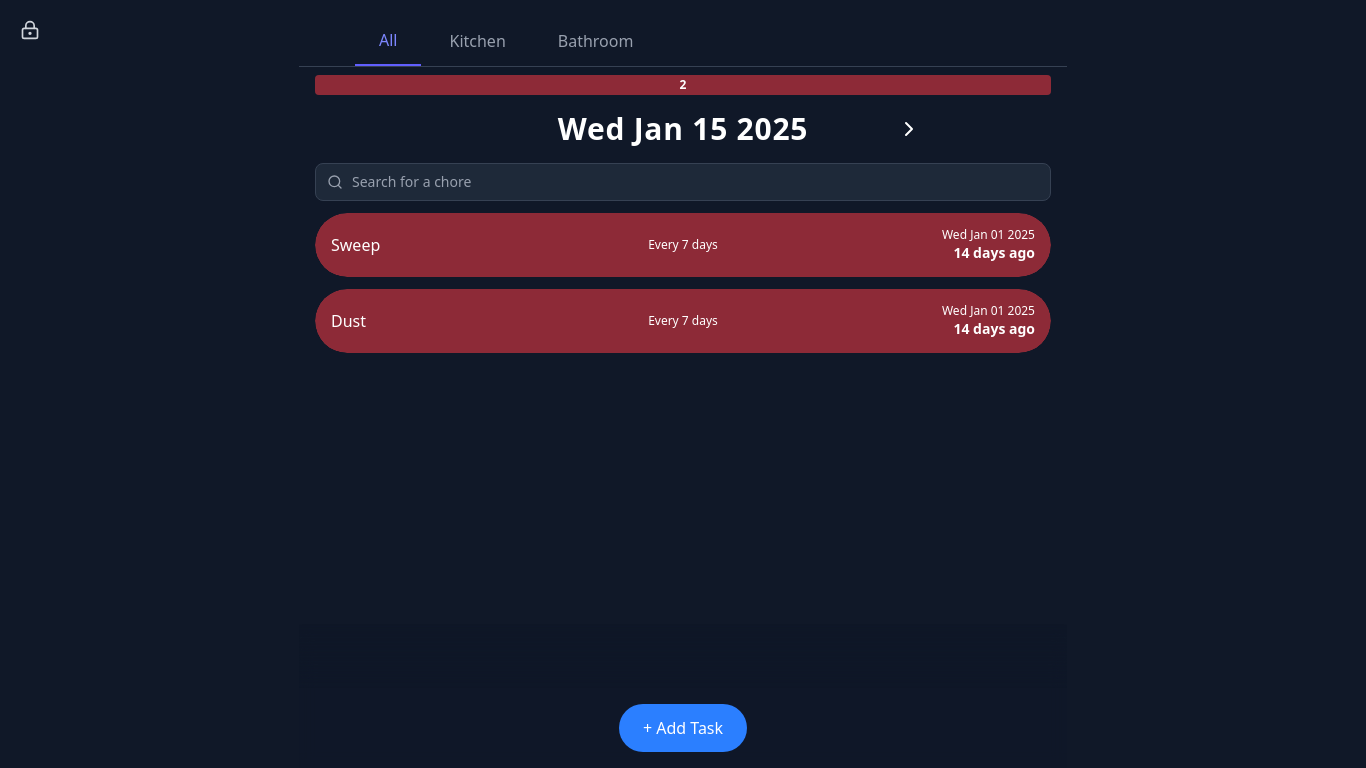
Scenario: lock-time view reset (F19) › does not reset when the lock is released by a double-tap
The width and height of the screenshot is (1366, 768).
Check: the text "Sweep" is shown, box [331, 234, 380, 256]
Check: the button named "Unlock screen" is shown, box [8, 8, 52, 52]
Click the button "Kitchen" at (478, 41), box [426, 16, 530, 66]
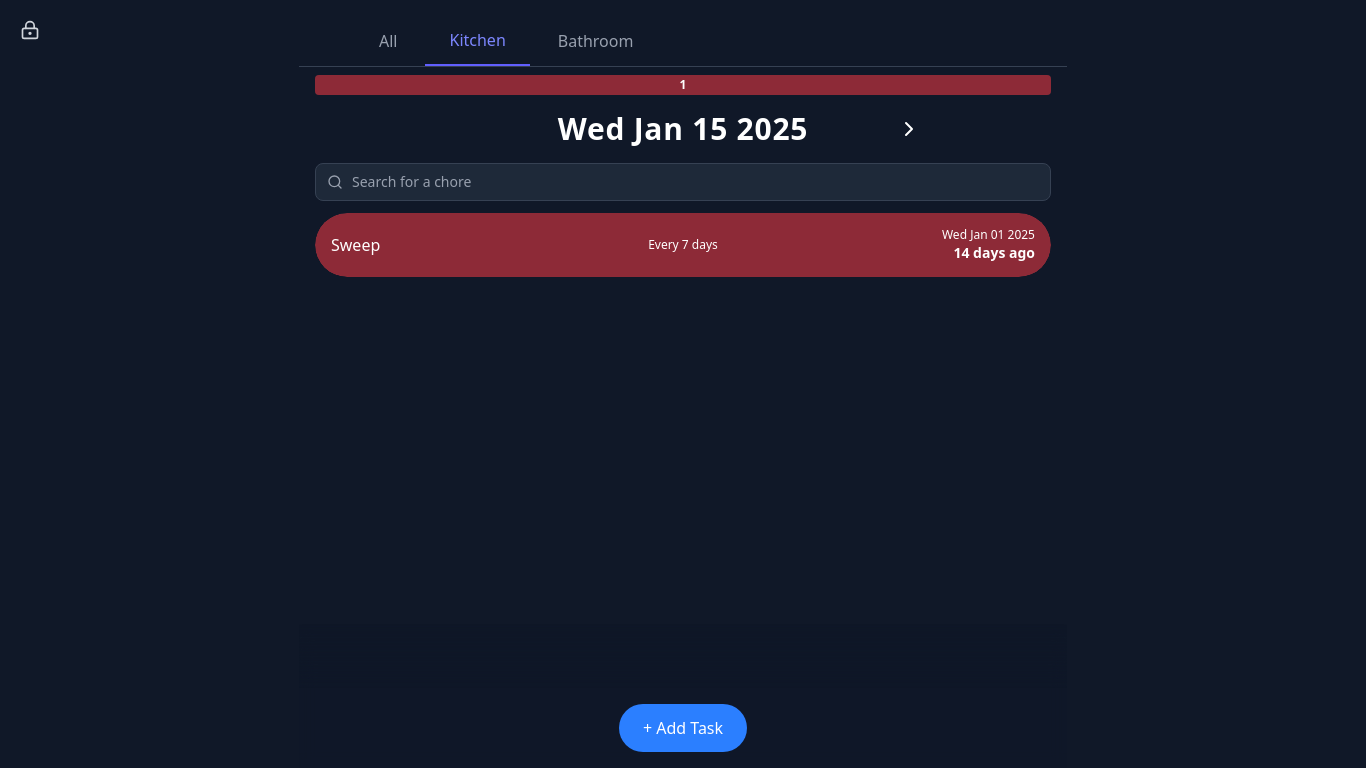
Type "sw" into the field with placeholder "Search for a chore" at (683, 182), box [315, 163, 1051, 201]
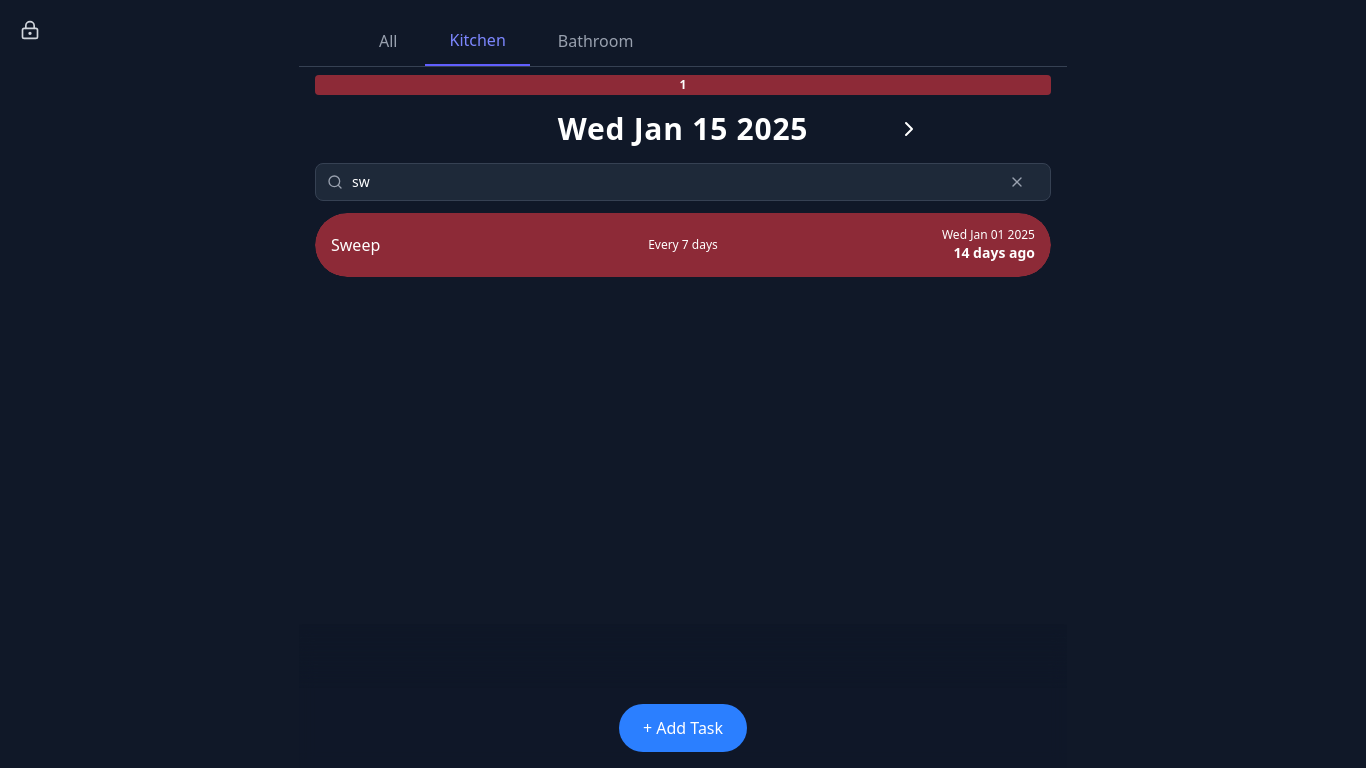
Click the element with test id "chore-bar" at (683, 245), box [315, 213, 1051, 277]
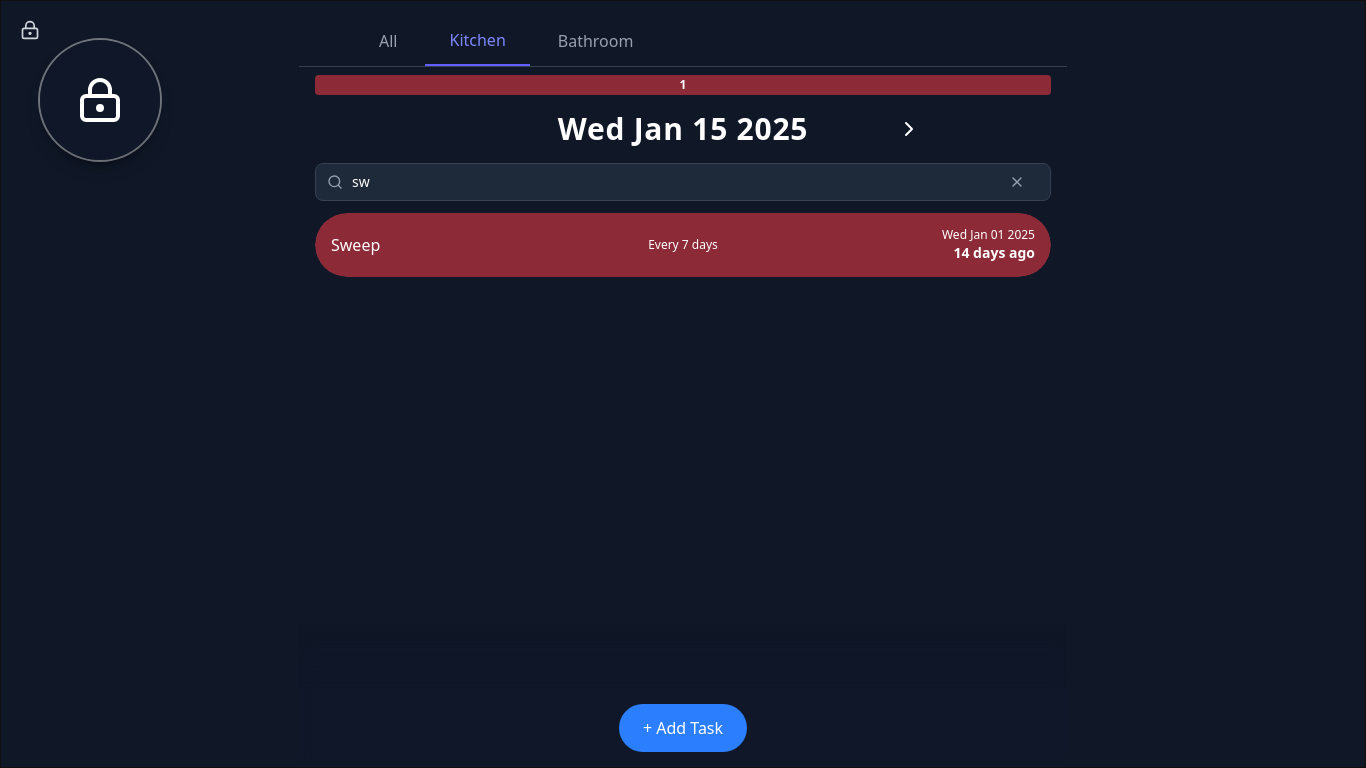
Click the button with test id "touch-lock-hit-area" at (100, 100), box [40, 40, 160, 160]
Wait 400 ms
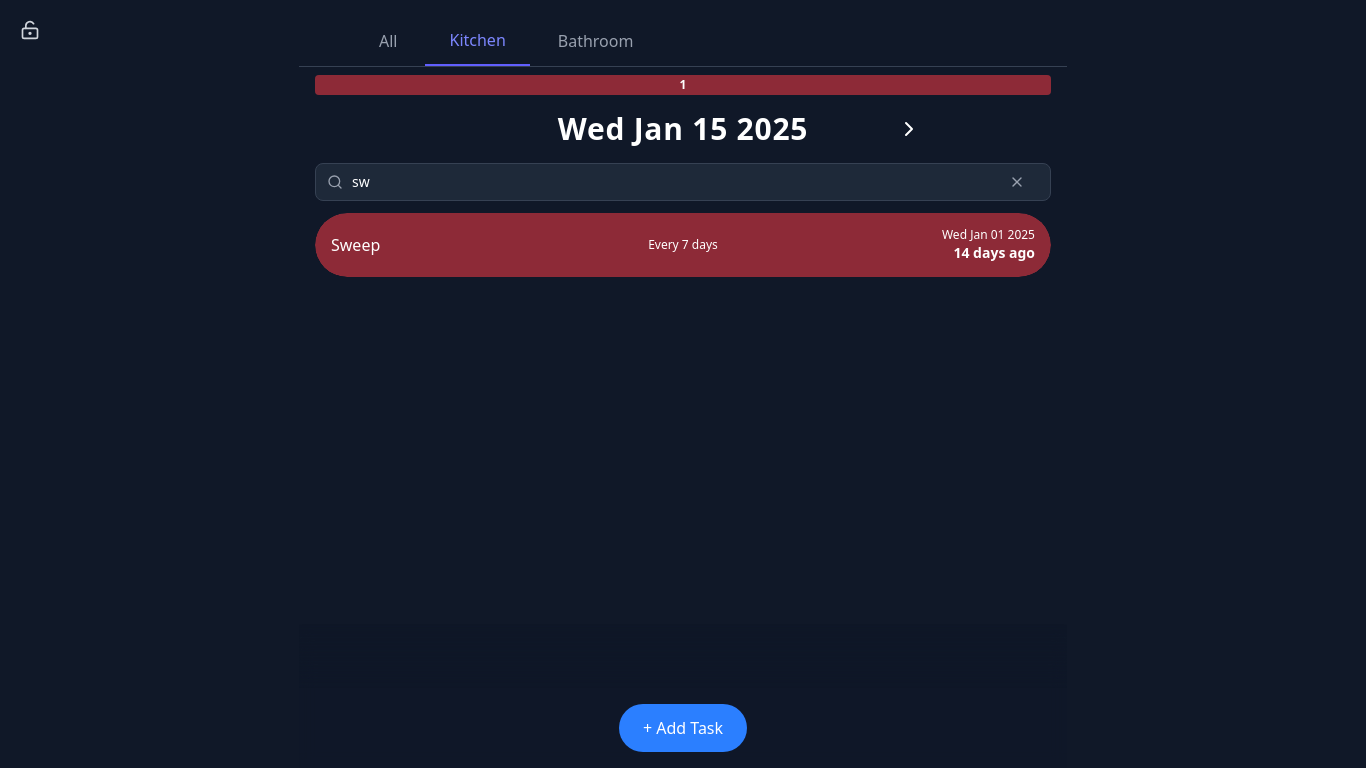
Check: the text "Dust" is not shown
Check: the button with test id "touch-lock-overlay" is gone
